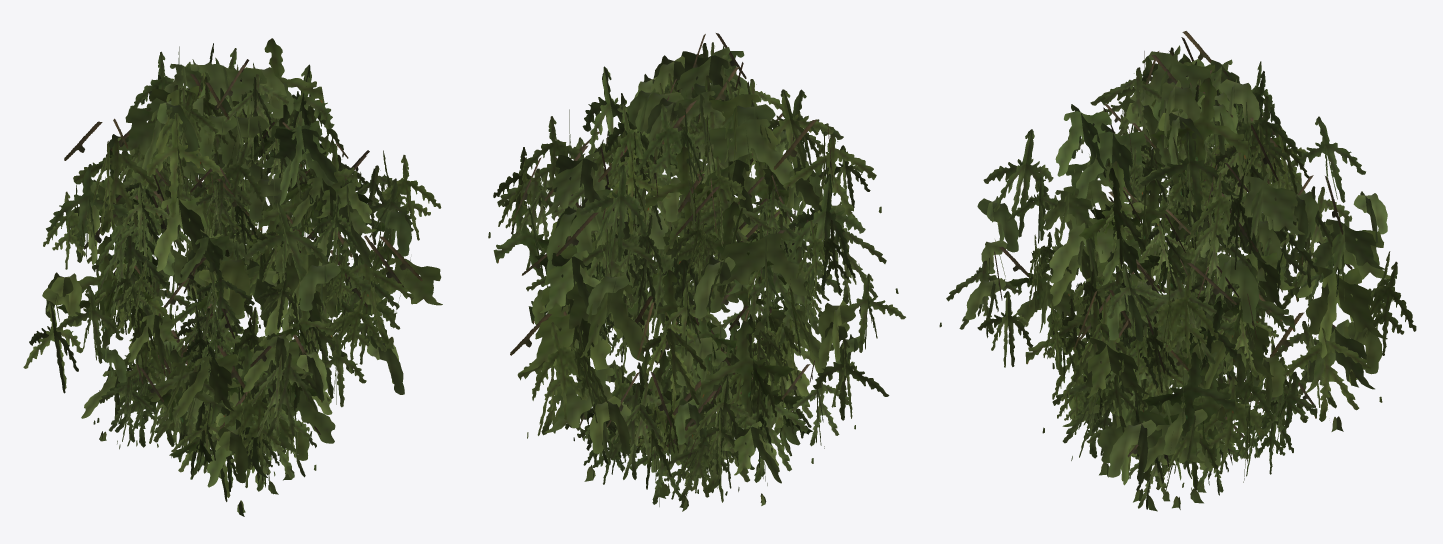
File: evergreen-shrub-lod1.glb
The picture shows the model from 3 angles, left to right: view 1: azimuth 30°, elevation 25°; view 2: azimuth 150°, elevation 25°; view 3: azimuth 270°, elevation 25°; orthographic projection. The views are drawn at different scales.
Visible parts, largest first — view 1: foliage; view 2: foliage; view 3: foliage.
Boxes of the visible parts, bbox=[...] form: foliage: bbox=[23, 38, 442, 516]; foliage: bbox=[488, 33, 905, 511]; foliage: bbox=[939, 31, 1416, 511].
Size of the model in its own units: 1.13 by 1.19 by 1.17.
1 material, 1 textured.
